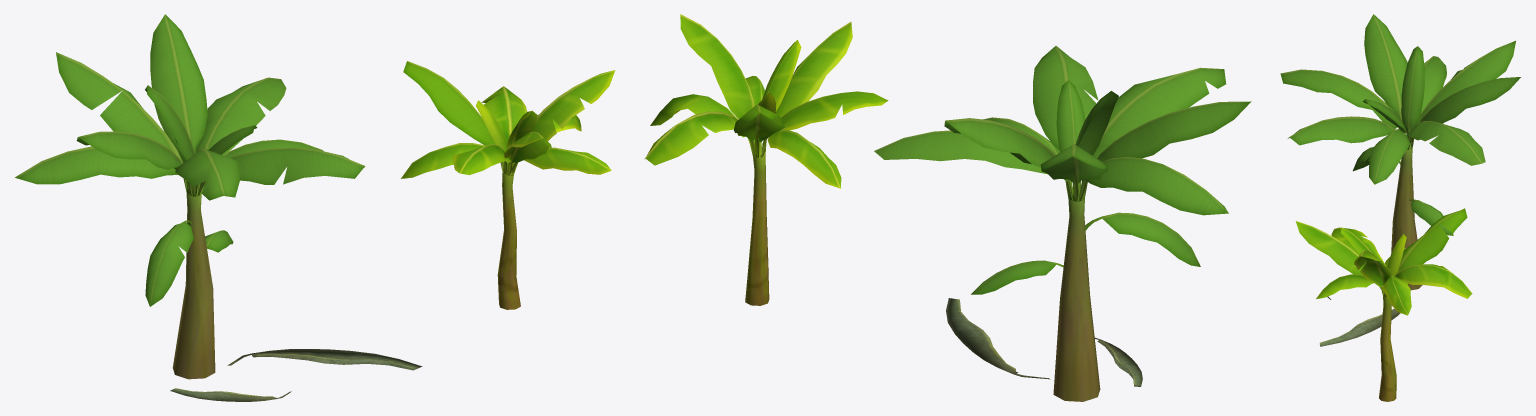
Rendered from SM_Banana.fbx.
The picture shows the model from 3 angles, left to right: view 1: azimuth 30°, elevation 25°; view 2: azimuth 150°, elevation 25°; view 3: azimuth 270°, elevation 25°; orthographic projection. The views are drawn at different scales.
Parts seen in each view (by area): view 1: SN_Banana1, SN_Banana2, SN_Banana1_leaf_dry1, SN_Banana1_leaf_dry2; view 2: SN_Banana1, SN_Banana2, SN_Banana1_leaf_dry1, SN_Banana1_leaf_dry2; view 3: SN_Banana1, SN_Banana2, SN_Banana1_leaf_dry1.
Boxes of the visible parts, left/top/right/bottom form: SN_Banana1: left=15, top=14, right=365, bottom=379; SN_Banana2: left=401, top=61, right=615, bottom=309; SN_Banana1_leaf_dry1: left=227, top=349, right=422, bottom=370; SN_Banana1_leaf_dry2: left=170, top=388, right=291, bottom=401; SN_Banana1: left=874, top=46, right=1251, bottom=401; SN_Banana2: left=644, top=14, right=888, bottom=305; SN_Banana1_leaf_dry1: left=946, top=298, right=1050, bottom=379; SN_Banana1_leaf_dry2: left=1094, top=337, right=1142, bottom=386; SN_Banana1: left=1280, top=14, right=1520, bottom=290; SN_Banana2: left=1295, top=208, right=1472, bottom=401; SN_Banana1_leaf_dry1: left=1319, top=308, right=1400, bottom=346.
Bounding box in the file's own units: 11739 × 5924 × 5772.
